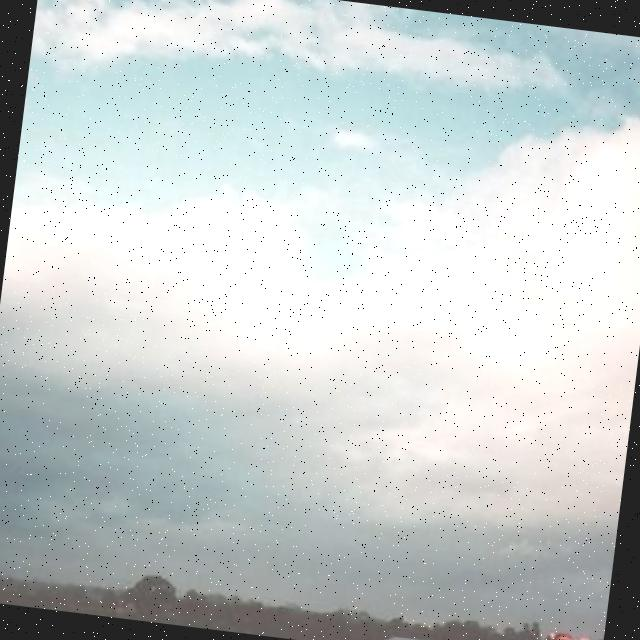Sc: (1, 1, 640, 524)
